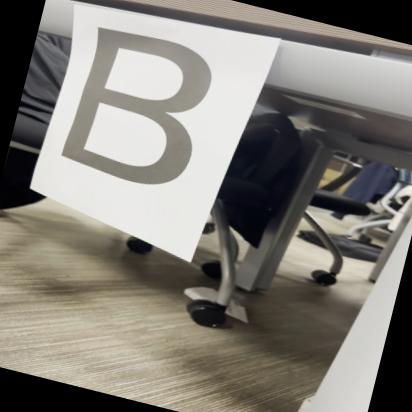seat: (52, 10, 222, 200)
